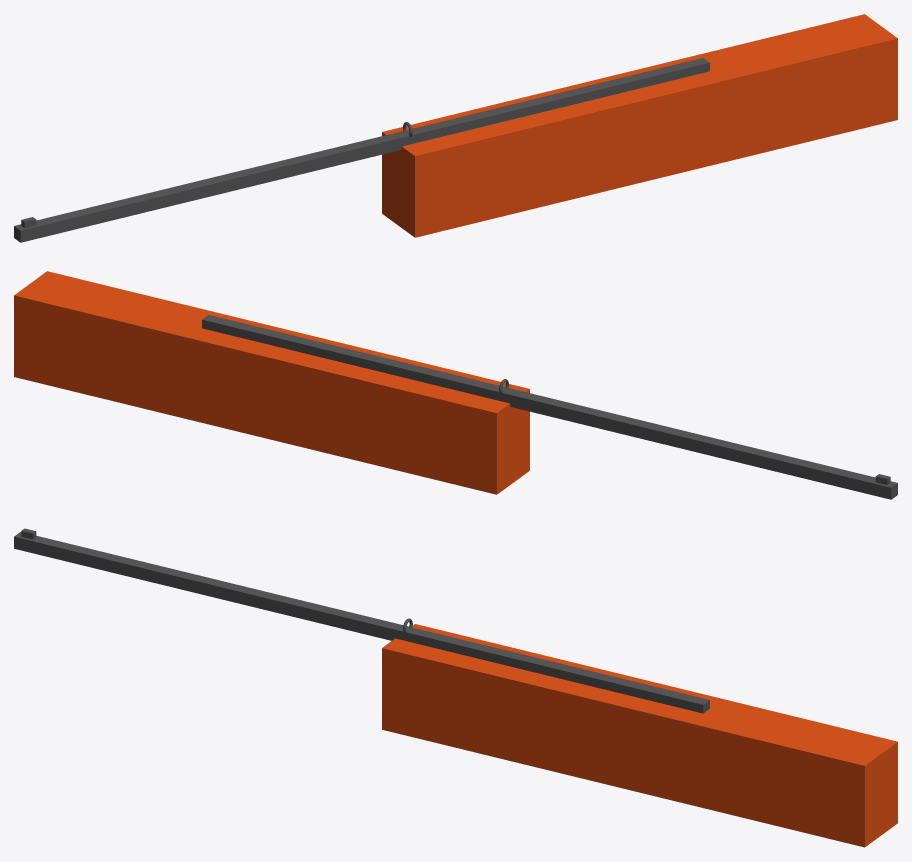
File: fusil.fbx
The picture shows the model from 3 angles, top to bottom: view 1: azimuth 30°, elevation 25°; view 2: azimuth 150°, elevation 25°; view 3: azimuth 330°, elevation 25°; orthographic projection.
Parts seen in each view (by area): view 1: Cube.001, Cube; view 2: Cube.001, Cube; view 3: Cube.001, Cube.
Boxes of the visible parts, <box> form: Cube.001: <box>382,14,897,237</box>; Cube: <box>14,58,709,242</box>; Cube.001: <box>14,271,529,494</box>; Cube: <box>202,315,897,499</box>; Cube.001: <box>382,624,897,847</box>; Cube: <box>14,532,709,713</box>.
Size of the model in its own units: 1504 by 168 by 100.
